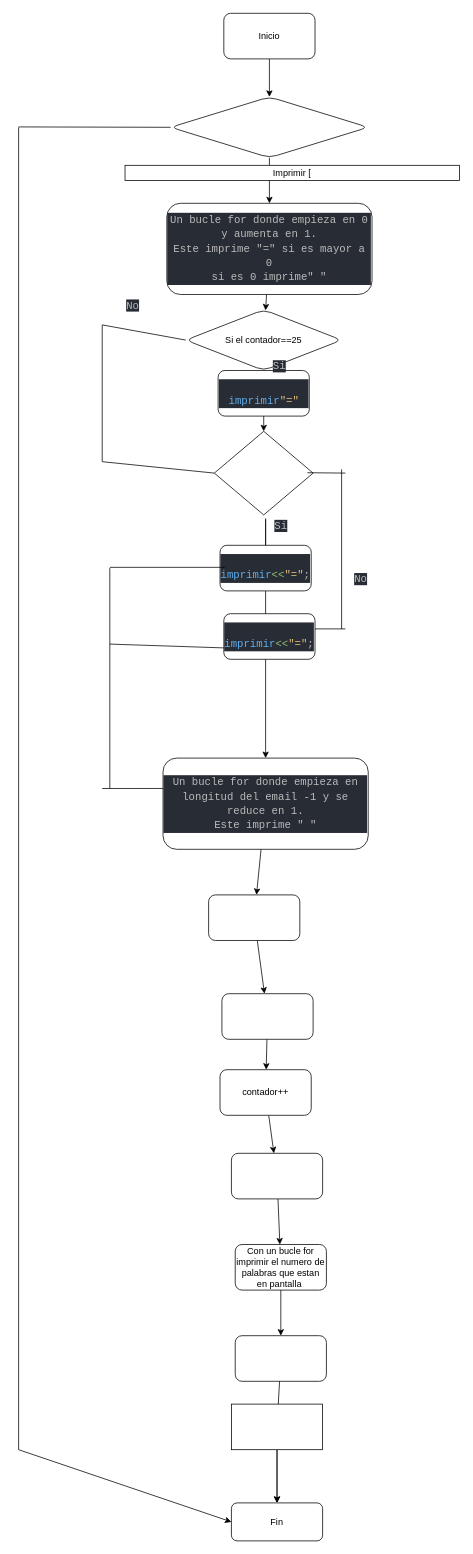
Image size: 473x1554. Some labels were removed from this diagram. Here are the shapes that lost their labels. From the top down, the centre of each, then its label:
the point at 269,127: Mientras el contador <cantidad
the point at 263,473: Si count==1
the point at 254,917: Imprimir "]"
the point at 267,1016: Imprimir el porcentaje realizado con un bucle for
the point at 277,1176: Imprimir un salto de linea
the point at 280,1358: Imprimir el correo letra por letra con bucle for
